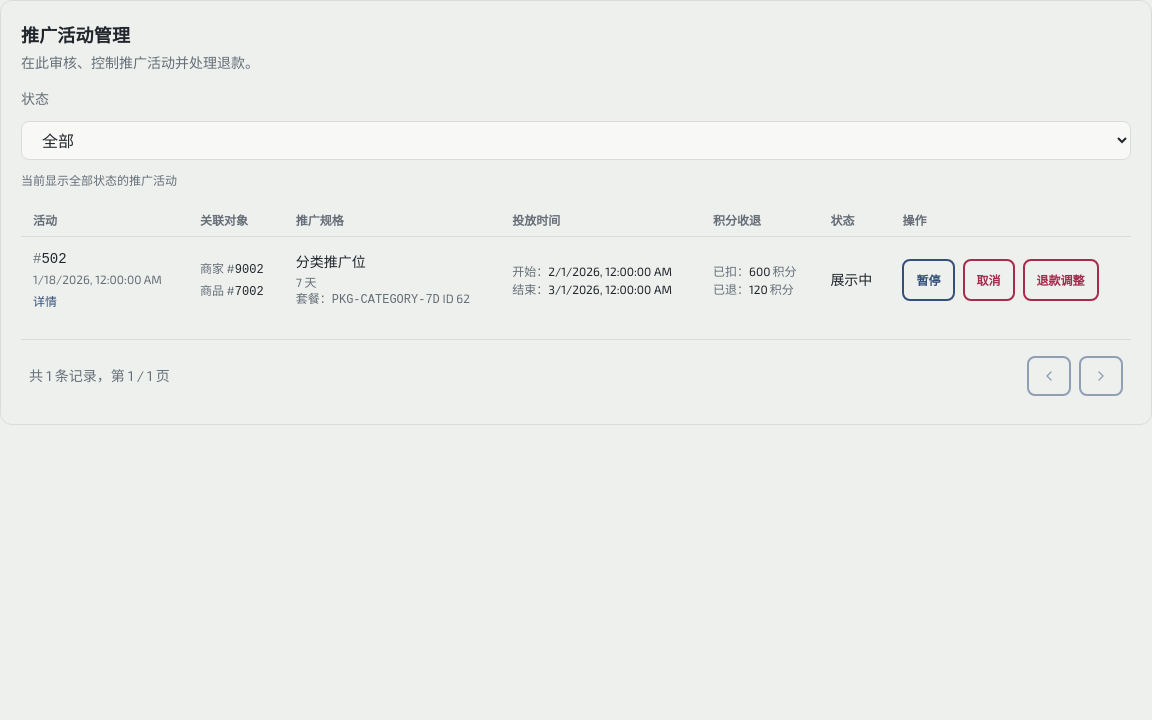
Test: AdminPromotionCampaignManager (refund-adjustment) › active refund typed API error CAMPAIGN_ADJUSTMENT_ALREADY_DECIDED keeps the dialog with the exact copy "该推广活动已完成退款调整，不能再次调整。" (no success, no refresh)
The image size is (1152, 720).
Expected: the table named "推广活动列表" is shown, [21,204,1131,323]
Click the button with aria-label "退款调整（活动 ID 502）" at (1060, 280), box [1022,259,1098,301]
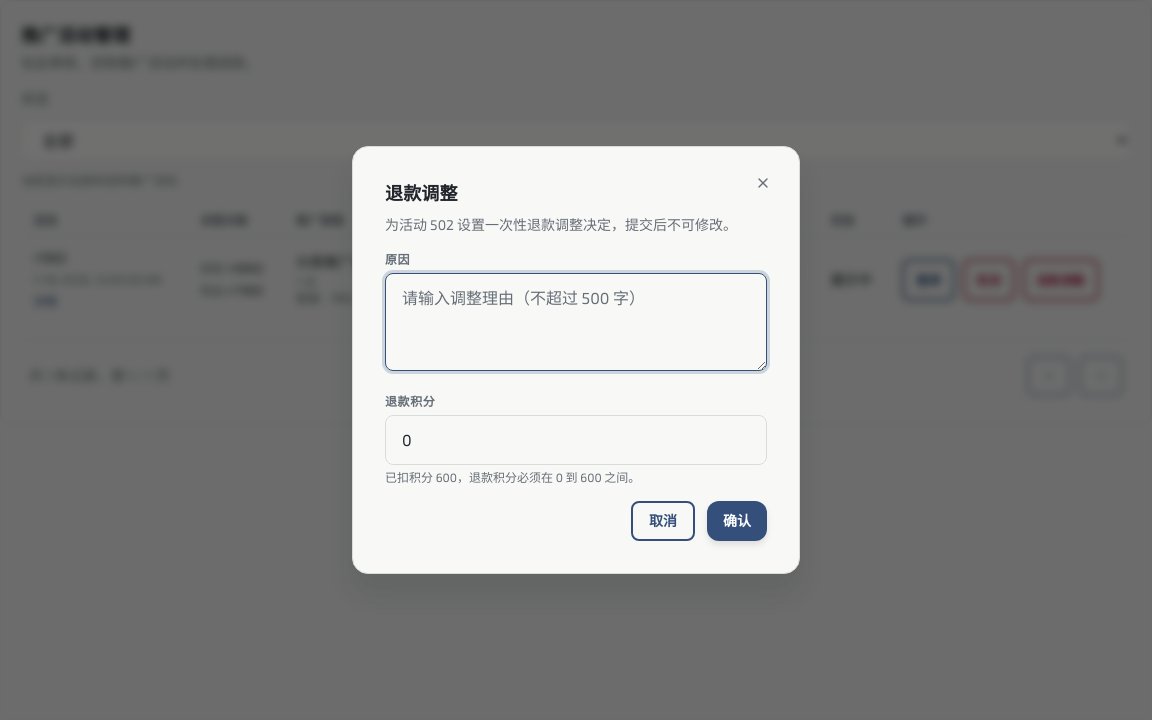
Type "120" into the field labelled "退款积分" at (576, 440), box [385,415,767,465]
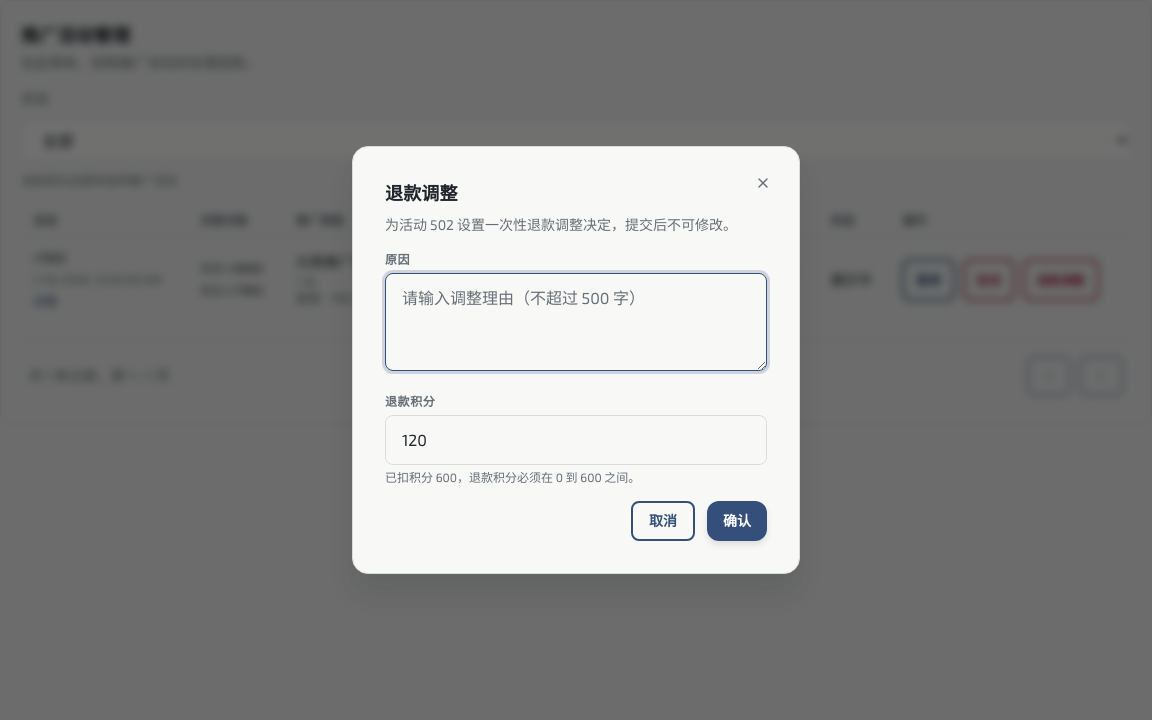
Type "商家申请调整" into the text box labelled "原因" at (576, 322), box [385,273,767,371]
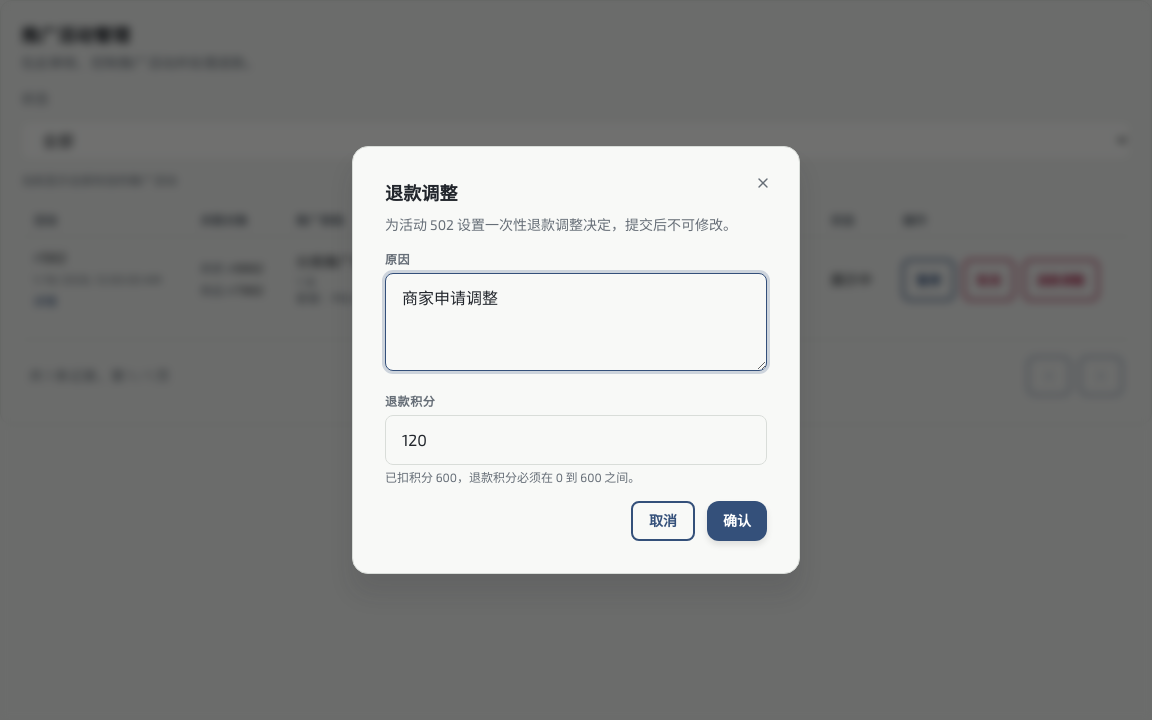
Click the button "确认" at (737, 521), box [707,501,767,541]
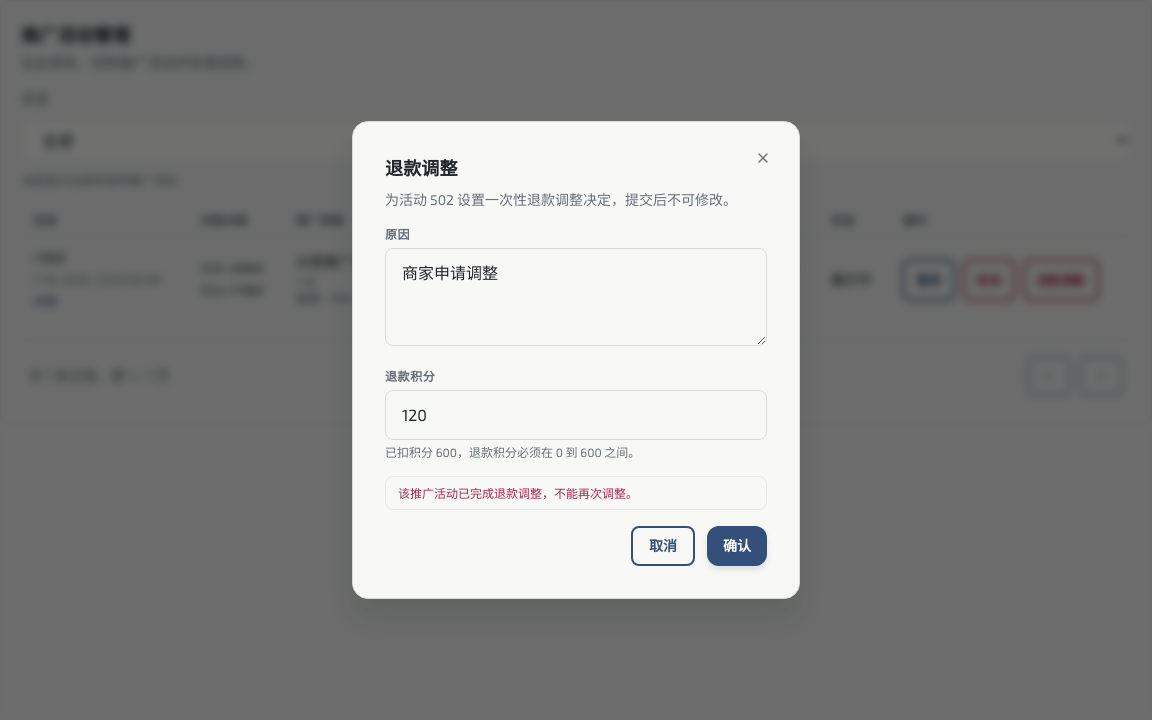
Expected: the dialog "退款调整" is shown, [352,121,800,599]
Expected: the text "该推广活动已完成退款调整，不能再次调整。" is shown, [385,476,767,510]
Expected: the message reads "该推广活动已完成退款调整，不能再次调整。", [398,486,638,500]
